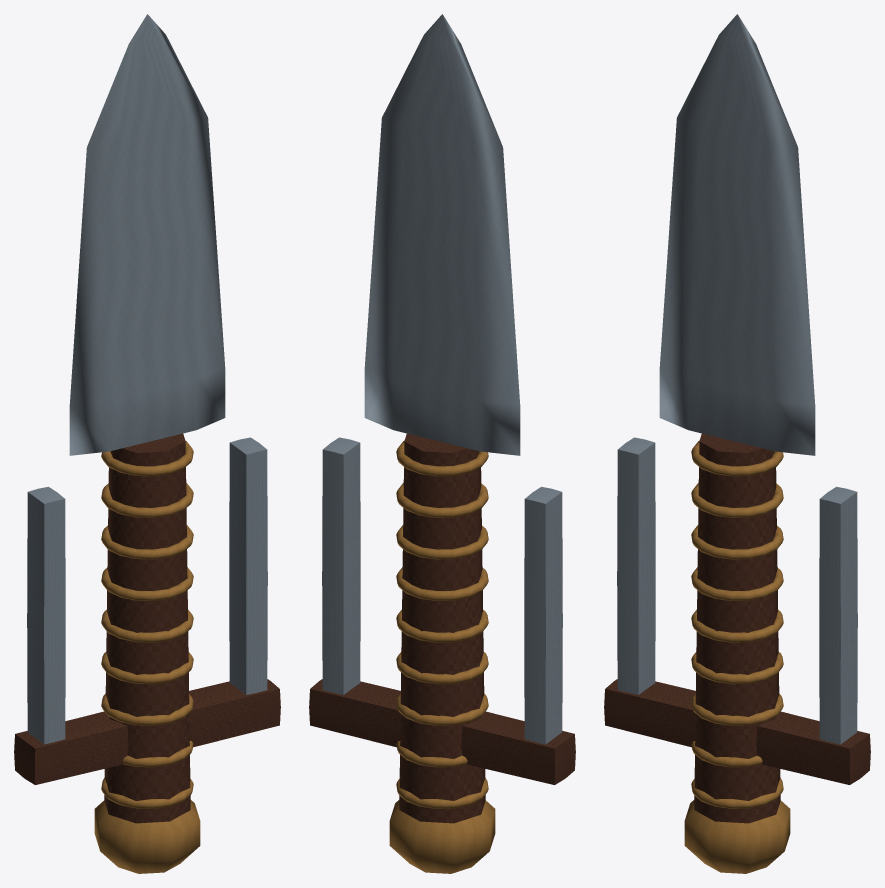
Rendered from punch-dagger.lod2.glb.
The picture shows the model from 3 angles, left to right: view 1: azimuth 30°, elevation 25°; view 2: azimuth 150°, elevation 25°; view 3: azimuth 330°, elevation 25°; orthographic projection.
Visible parts, largest first — view 1: blade, leather.0, leather.11, steel.12, steel.13, brass.10, brass.8, brass.7, brass.9, brass.6, brass.5, brass.4 (+3 smaller); view 2: blade, leather.0, leather.11, steel.12, steel.13, brass.10, brass.8, brass.7, brass.9, brass.6, brass.5, brass.4 (+3 smaller); view 3: blade, leather.0, leather.11, steel.13, steel.12, brass.10, brass.8, brass.7, brass.9, brass.6, brass.5, brass.4 (+3 smaller).
Boxes of the visible parts, box(x1,y1,x2,y2) form: blade: box(69, 14, 225, 455); leather.0: box(104, 433, 190, 823); leather.11: box(14, 679, 280, 784); steel.12: box(27, 486, 65, 744); steel.13: box(229, 437, 267, 694); brass.10: box(94, 800, 200, 873); brass.8: box(101, 483, 193, 517); brass.7: box(101, 525, 193, 559); brass.9: box(101, 441, 193, 476); brass.6: box(101, 567, 193, 600); brass.5: box(101, 609, 193, 642); brass.4: box(101, 652, 193, 684); blade: box(364, 14, 520, 455); leather.0: box(399, 433, 485, 823); leather.11: box(309, 679, 575, 784); steel.12: box(524, 486, 562, 744); steel.13: box(322, 437, 360, 694); brass.10: box(389, 800, 495, 873); brass.8: box(396, 483, 488, 517); brass.7: box(396, 525, 488, 559); brass.9: box(396, 441, 488, 476); brass.6: box(396, 567, 488, 600); brass.5: box(396, 609, 488, 642); brass.4: box(396, 652, 488, 684); blade: box(659, 14, 815, 455); leather.0: box(694, 433, 780, 823); leather.11: box(604, 679, 870, 784); steel.13: box(819, 486, 857, 744); steel.12: box(617, 437, 655, 694); brass.10: box(684, 800, 790, 873); brass.8: box(691, 483, 783, 517); brass.7: box(691, 525, 783, 559); brass.9: box(691, 441, 783, 476); brass.6: box(691, 567, 783, 600); brass.5: box(691, 609, 783, 642); brass.4: box(691, 652, 783, 684).
Size of the model in its own units: 0.16 by 0.525 by 0.0609.
Materials: 3 (3 with a texture image).
